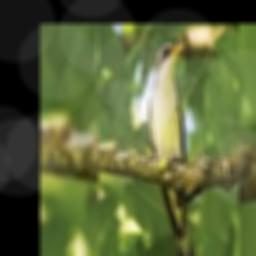Cuckoo: (149, 41, 197, 256)
